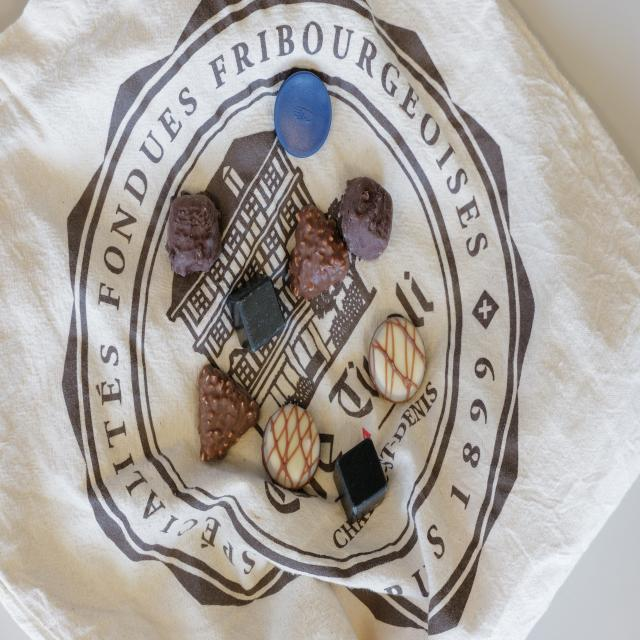Creme_brulee: (261, 403, 320, 491), (368, 317, 427, 404)
Tentation_noir: (167, 193, 223, 277), (338, 177, 393, 260)
Triangolo: (196, 366, 260, 464), (289, 204, 348, 300)
